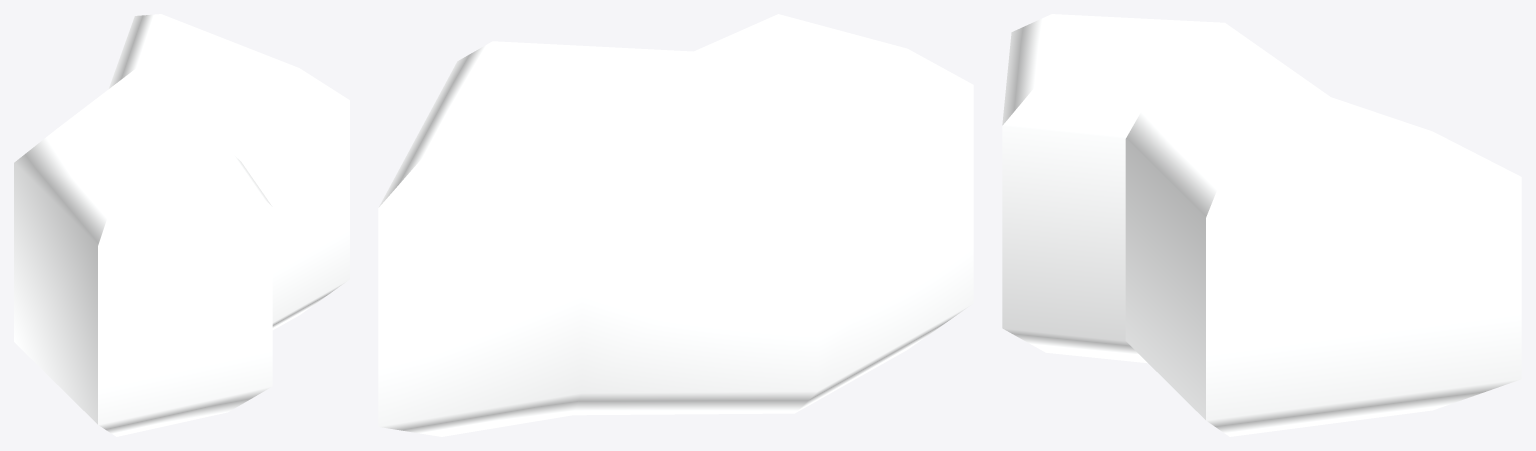
The model's file is ice_floe_small_013.glb.
3 views of the same model, side by side, from view 1: azimuth 30°, elevation 25°; view 2: azimuth 150°, elevation 25°; view 3: azimuth 270°, elevation 25° (orthographic). The views are drawn at different scales.
Parts seen in each view (by area): view 1: ice_floe_small_013; view 2: ice_floe_small_013; view 3: ice_floe_small_013.
Boxes of the visible parts, box(x1,y1,x2,y2) form: ice_floe_small_013: box(14, 14, 349, 436); ice_floe_small_013: box(378, 14, 973, 436); ice_floe_small_013: box(1002, 14, 1521, 436).
Bounding box in the file's own units: 0.9954 × 0.6962 × 1.18.
1 material, 1 textured.
